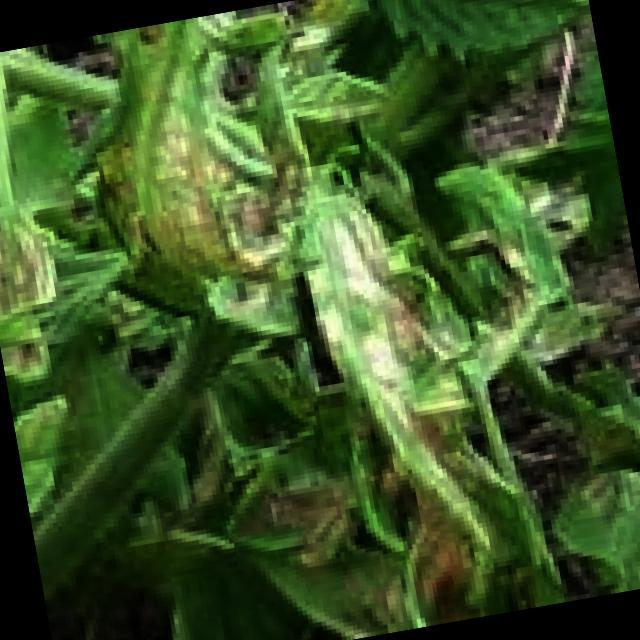Tomato mosaic virus leaf: (274, 184, 488, 562), (60, 6, 308, 328)
